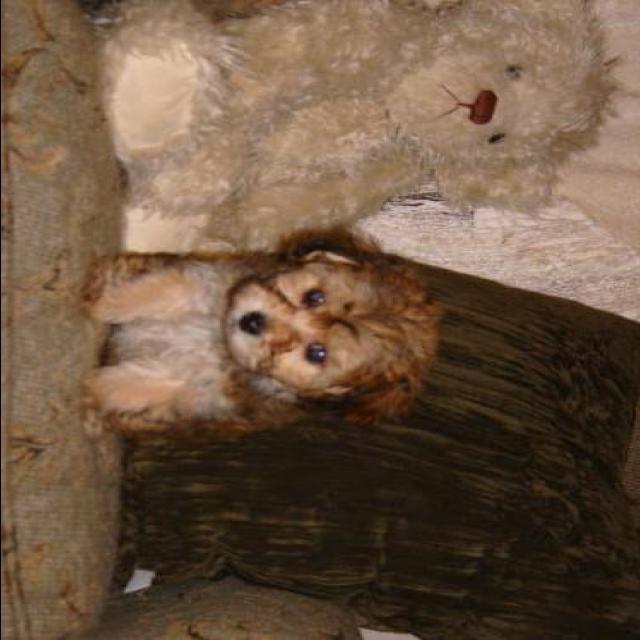dog: (66, 229, 458, 453)
